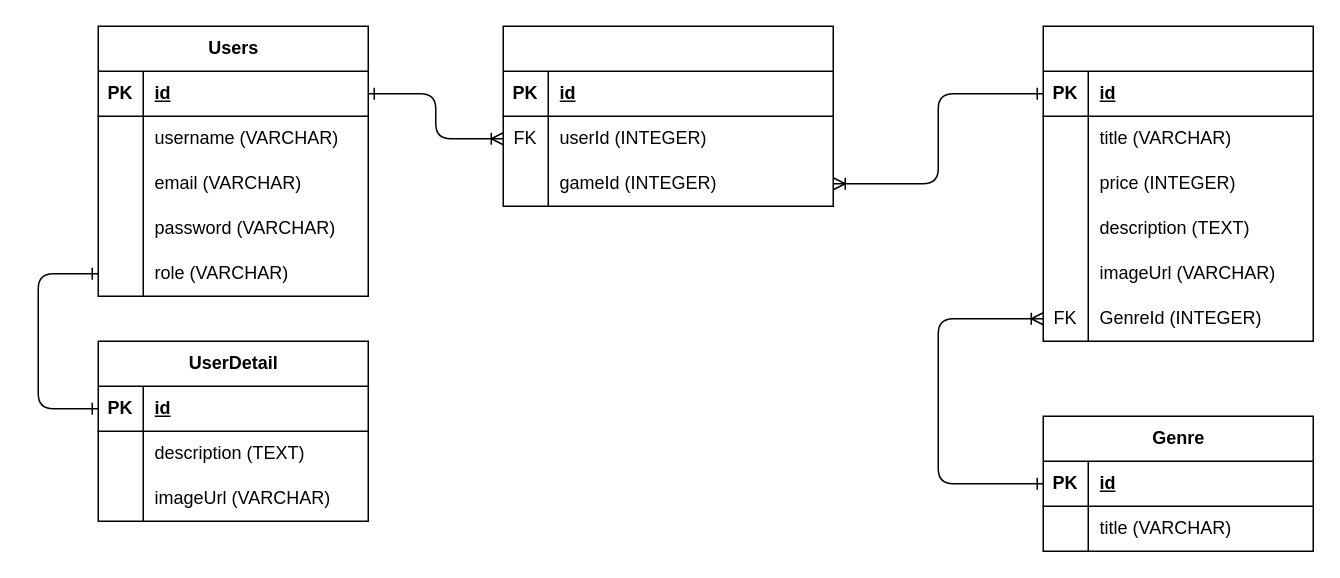
Image size: 1340x578. Some labels were removed from this diagram. Each missing label, with the box of its shape:
Game: (1042, 25, 1313, 341)
GameUser: (502, 25, 833, 206)
